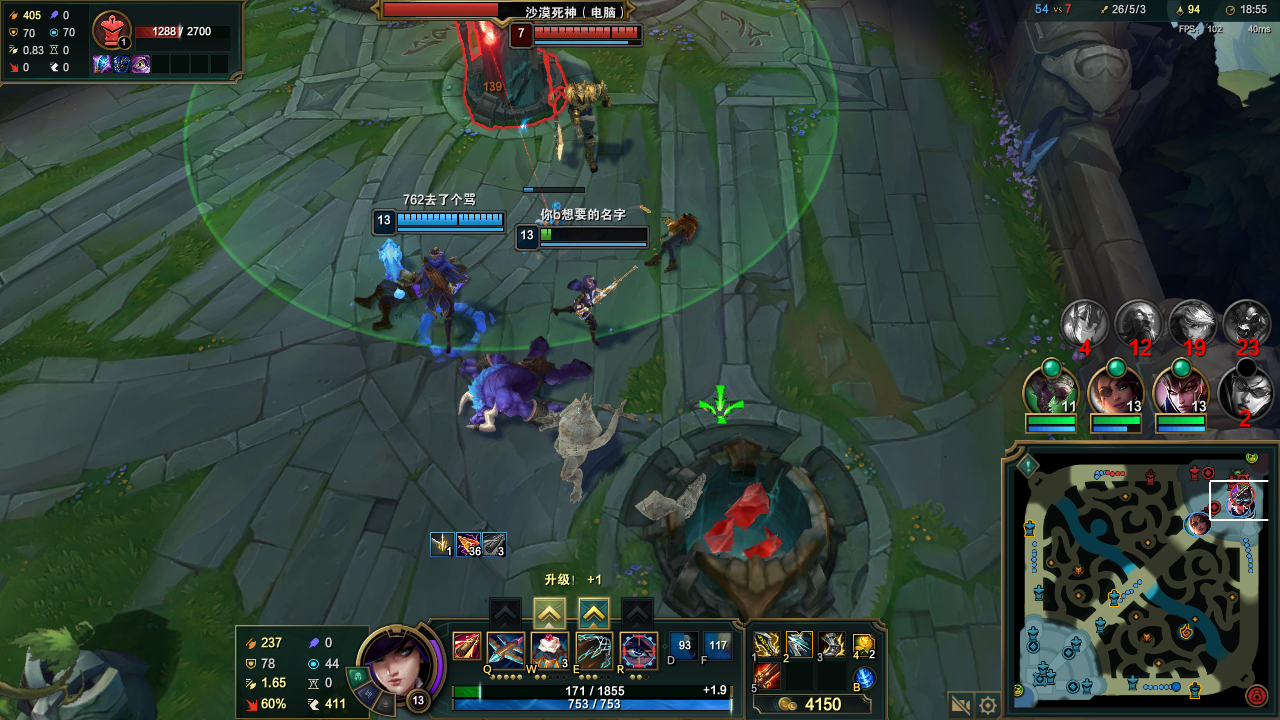DFFYT: (383, 1, 563, 131)
DFYX: (533, 28, 640, 41)
KF: (788, 634, 814, 648)
Shenji: (584, 600, 608, 622)
Tuijianshengji: (538, 602, 557, 623)
